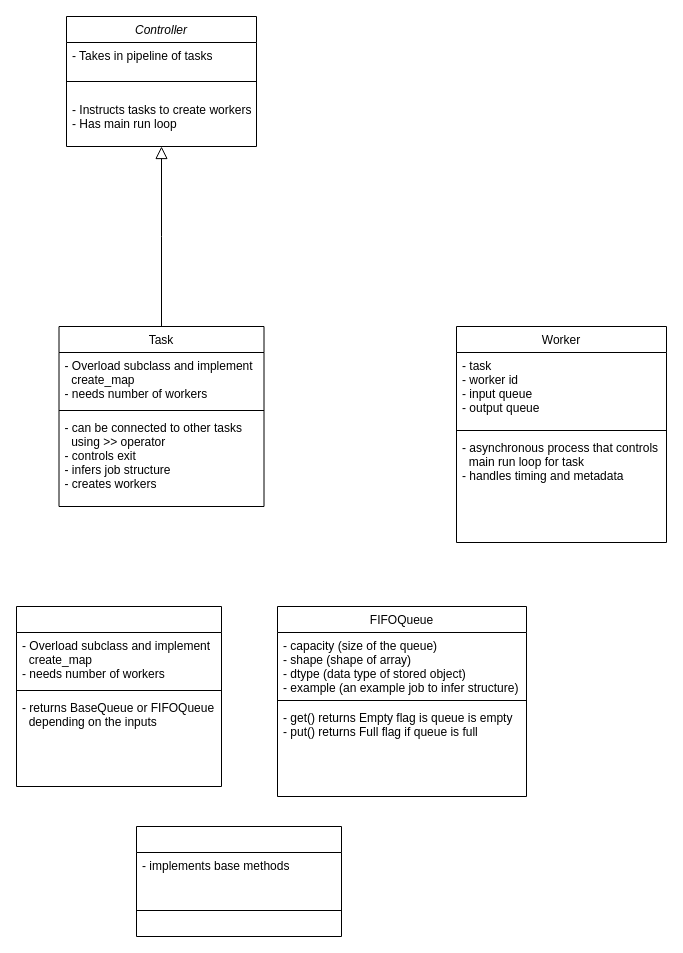
Some shapes in this 683 by 953 pixel diagram are drawn without their labels. The box of each missing label's shape, as (x1, y1, x2, y2) in pixels:
BaseQueue: (136, 826, 342, 936)
Queue (function): (16, 606, 222, 786)
